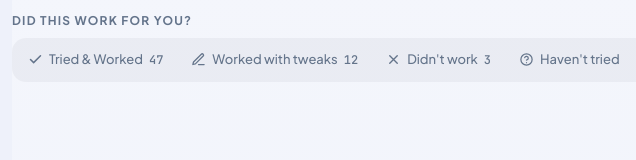
Scenario: OutcomeVote › optimistically increments the chosen verdict's count on click
The image size is (636, 160).
Click the button "Didn't work 3". click: (439,60)
box: [374,42,503,78]
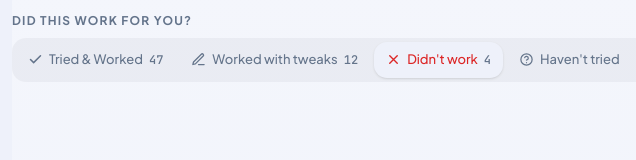
Now the text "4" is shown, box [484,51,491,69]
